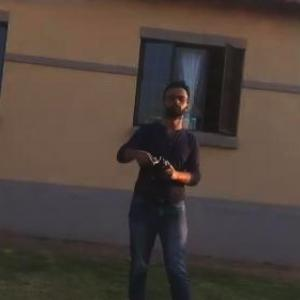follow: (109, 72, 208, 299)
